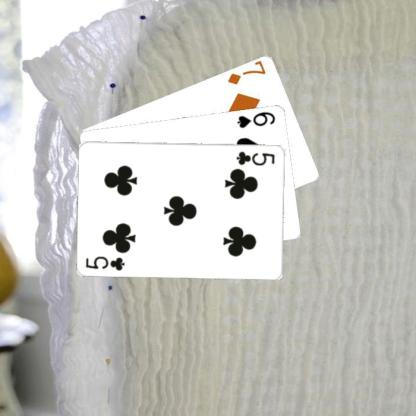5C: (84, 253, 126, 272), (234, 148, 276, 166)
6S: (234, 109, 276, 129)
7D: (224, 60, 268, 86)
